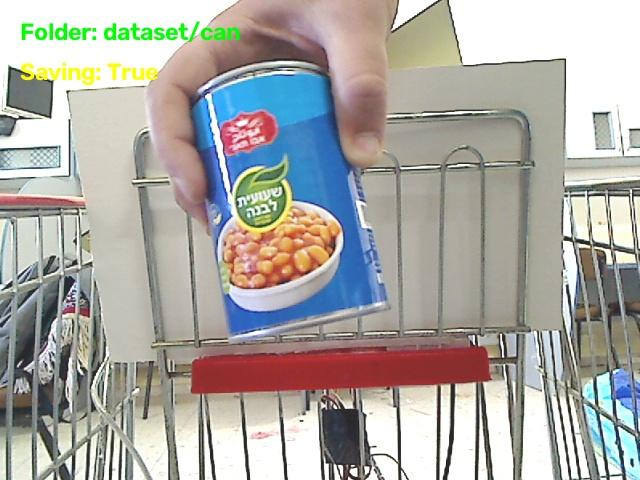can: (192, 61, 387, 340)
